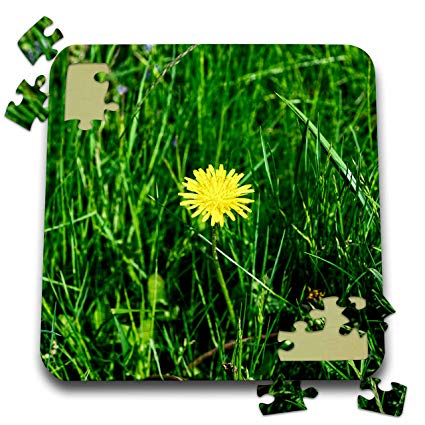dandelion: (177, 164, 258, 221)
